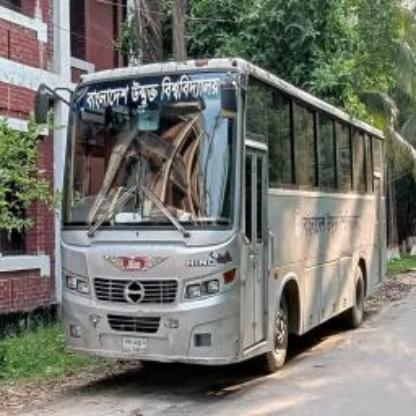bus: (23, 64, 390, 378)
